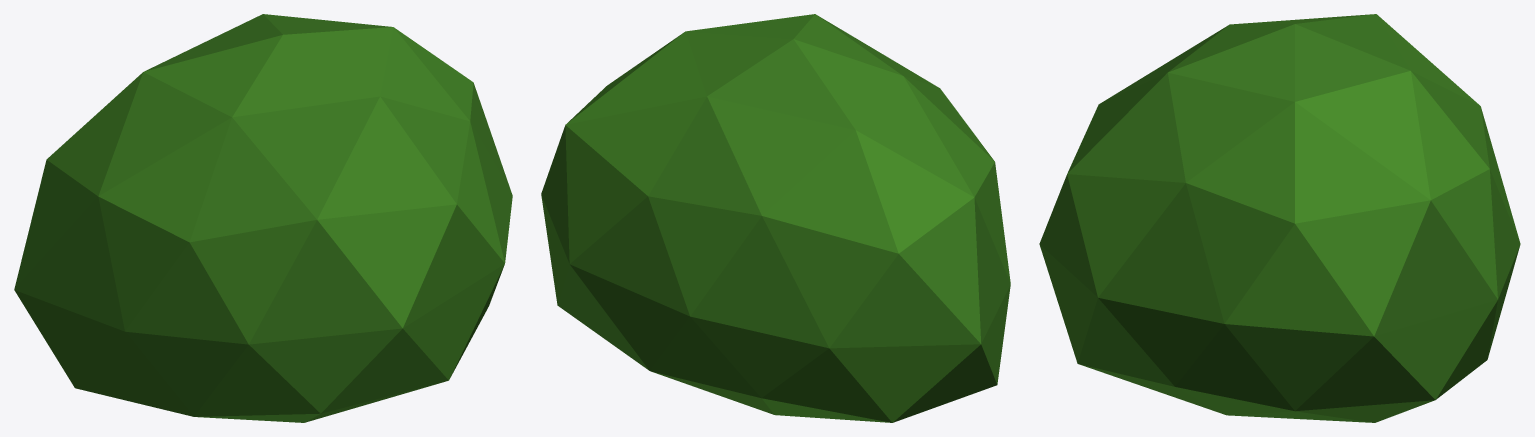
File: N10_Leaf_Cluster_Compact.fbx
3 views of the same model, side by side, from view 1: azimuth 30°, elevation 25°; view 2: azimuth 150°, elevation 25°; view 3: azimuth 270°, elevation 25° (orthographic). The views are drawn at different scales.
Parts seen in each view (by area): view 1: N10_Leaf_Cluster_Compact; view 2: N10_Leaf_Cluster_Compact; view 3: N10_Leaf_Cluster_Compact.
Boxes of the visible parts, <box> form: N10_Leaf_Cluster_Compact: <box>14,14,512,422</box>; N10_Leaf_Cluster_Compact: <box>541,14,1010,422</box>; N10_Leaf_Cluster_Compact: <box>1039,14,1520,422</box>.
Size of the model in its own units: 1.17 by 0.8746 by 1.01.
Materials: 1 (1 with a texture image).
